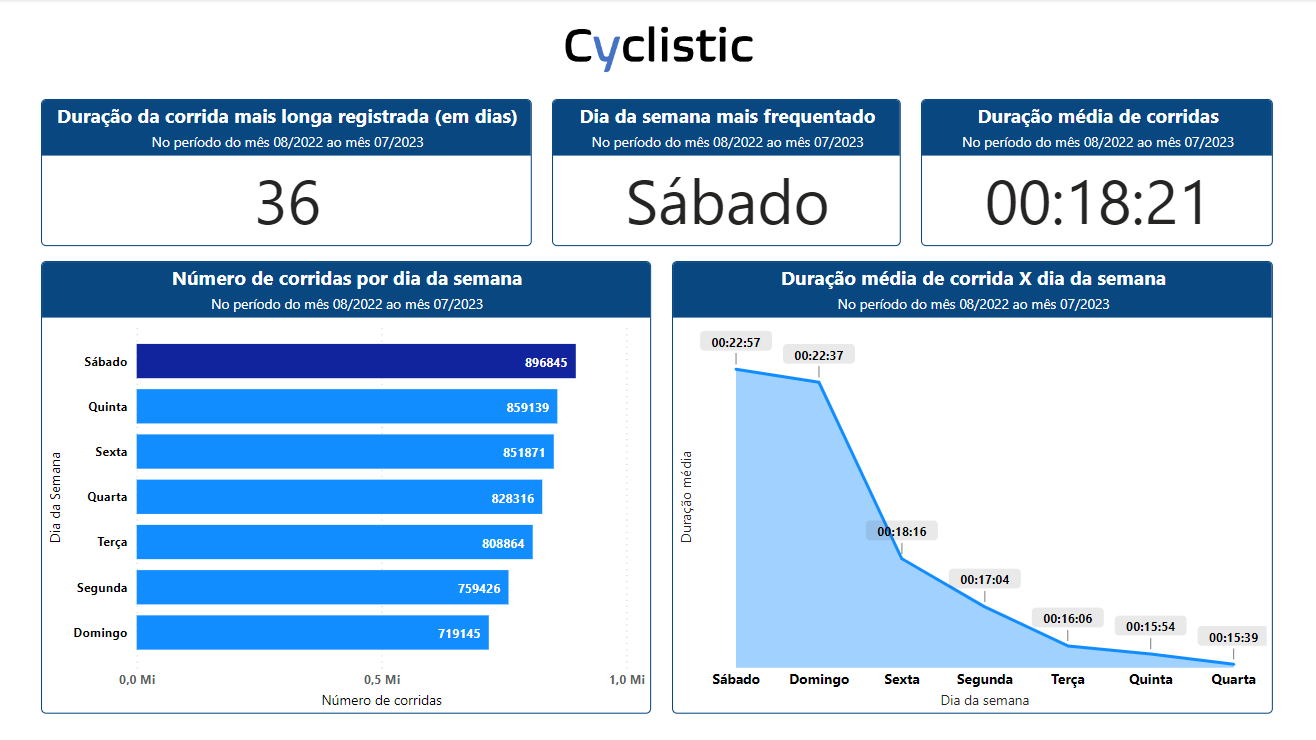

Layout of this report page (visuals, bound fields, positions):
{"tool":"powerbi","page":{"name":"Visão Geral","canvas":[1280,720],"ordinal":0},"visuals":[{"type":"barChart","title":"Número de corridas por dia da semana","fields":{"Category":["DDS X Corridas.Dia da Semana"],"Y":["Sum(DDS X Corridas.Qtd. Corridas)"]},"box":[40.8,254.6,592.9,440.3],"z":0},{"type":"card","title":"Duração da corrida mais longa registrada (em dias)","fields":{"Values":["Min(Período Total.Dias)"]},"box":[40.8,97.2,477.2,142.9],"z":1000},{"type":"card","title":"Dia da semana mais frequentado","fields":{"Values":["Min(Período Total.Dia de mais corridas)"]},"box":[537.5,97.2,339.2,142.9],"z":2000},{"type":"image","box":[457.8,0,365.4,104],"z":3000},{"type":"areaChart","title":"Duração média de corrida X dia da semana","fields":{"Category":["DDS X Duração.Dia da Semana"],"Y":["Sum(DDS X Duração.Duração Média Dec)"]},"box":[654.1,254.6,584.1,440.3],"z":4000},{"type":"card","title":"Duração média de corridas","fields":{"Values":["Min(Período Total.Média de duração de corrida)"]},"box":[896.1,97.2,342.1,142.9],"z":5000}]}

Visuals, with their boxes in screenshot pixels (x1, y1, x2, y2), scaled from the page's 1280x720 canvas onto the 1316x740 screenshot:
"Número de corridas por dia da semana" barChart: <box>42,262,652,714</box>
"Duração da corrida mais longa registrada (em dias)" card: <box>42,100,533,247</box>
"Dia da semana mais frequentado" card: <box>553,100,901,247</box>
image: <box>471,0,846,107</box>
"Duração média de corrida X dia da semana" areaChart: <box>672,262,1273,714</box>
"Duração média de corridas" card: <box>921,100,1273,247</box>
